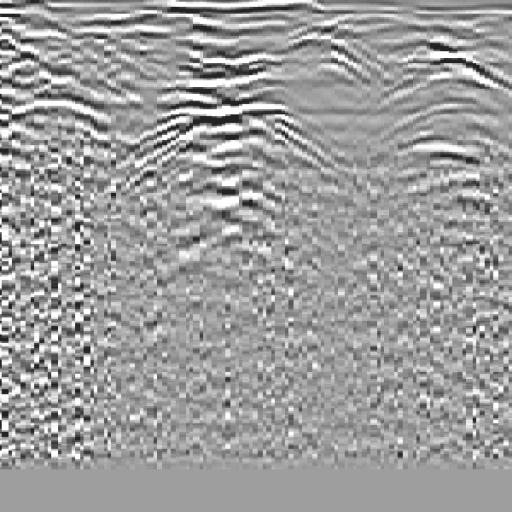metalic: (114, 55, 343, 190)
